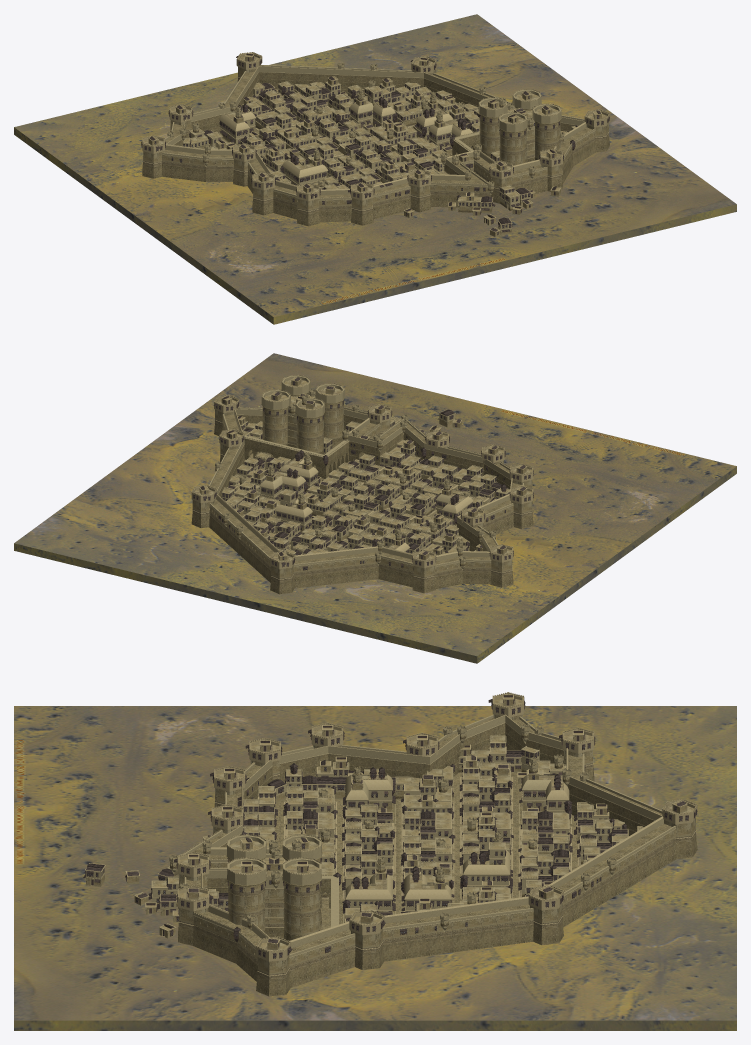
File: persian_city.glb
3 views of the same model, one above another, from view 1: azimuth 30°, elevation 25°; view 2: azimuth 150°, elevation 25°; view 3: azimuth 270°, elevation 25° (orthographic). The views are drawn at different scales.
Parts seen in each view (by area): view 1: Object_3, Object_42, Object_5, Object_34, Object_39, Object_36, Object_49, Object_4, Object_41, Object_125, Object_81, Object_29 (+14 smaller); view 2: Object_3, Object_42, Object_5, Object_34, Object_39, Object_36, Object_49, Object_125, Object_4, Object_81, Object_29, Object_41 (+15 smaller); view 3: Object_3, Object_5, Object_42, Object_34, Object_39, Object_4, Object_36, Object_49, Object_125, Object_81, Object_29, Object_80 (+26 smaller).
Part boxes in pixels (<box>): Object_3: <box>14,14,736,324</box>; Object_42: <box>142,53,608,214</box>; Object_5: <box>162,72,595,222</box>; Object_34: <box>162,62,595,200</box>; Object_39: <box>154,82,566,234</box>; Object_36: <box>162,101,595,210</box>; Object_49: <box>148,53,601,232</box>; Object_4: <box>142,80,609,226</box>; Object_41: <box>148,78,601,236</box>; Object_125: <box>204,83,575,224</box>; Object_81: <box>170,53,609,211</box>; Object_29: <box>256,90,561,195</box>; Object_3: <box>14,353,736,663</box>; Object_42: <box>192,379,532,582</box>; Object_5: <box>209,409,522,588</box>; Object_34: <box>209,404,524,567</box>; Object_39: <box>204,389,509,558</box>; Object_36: <box>209,417,513,577</box>; Object_49: <box>199,377,526,556</box>; Object_125: <box>243,409,508,554</box>; Object_4: <box>191,388,533,594</box>; Object_81: <box>214,393,533,579</box>; Object_29: <box>261,375,483,549</box>; Object_41: <box>221,377,526,560</box>; Object_3: <box>14,706,736,1030</box>; Object_5: <box>175,718,676,987</box>; Object_42: <box>146,693,695,980</box>; Object_34: <box>180,714,675,957</box>; Object_39: <box>95,736,643,916</box>; Object_4: <box>178,765,697,996</box>; Object_36: <box>174,829,675,971</box>; Object_49: <box>125,694,687,943</box>; Object_125: <box>86,743,627,931</box>; Object_81: <box>170,726,697,976</box>; Object_29: <box>161,699,603,936</box>; Object_80: <box>201,714,663,946</box>.
Bounding box in the file's own units: 6797 × 997 × 6602.
Materials: 9 (9 with a texture image).
